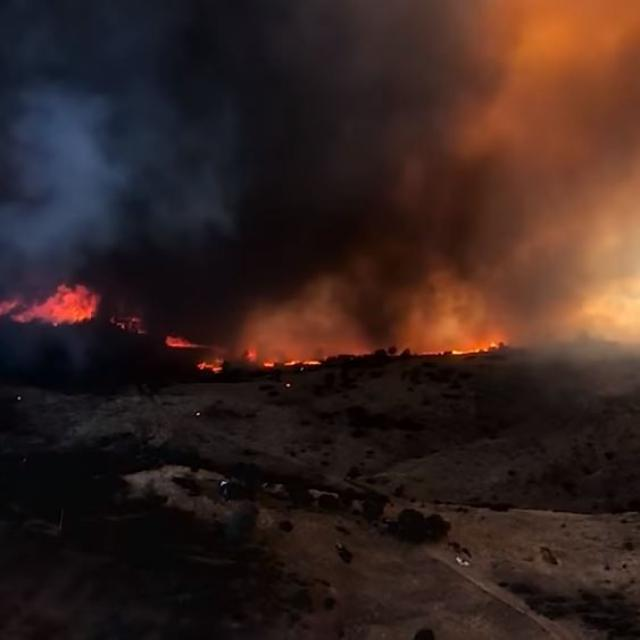Fire: (2, 284, 114, 338), (235, 339, 324, 375), (384, 342, 499, 366), (158, 324, 197, 348), (194, 353, 228, 374)
Smoke: (0, 0, 637, 341)
